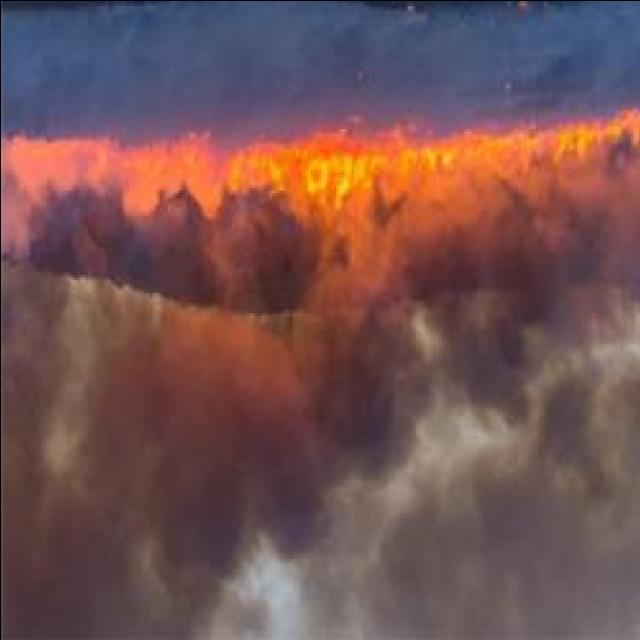fire: (518, 116, 618, 160), (304, 148, 364, 198), (408, 146, 454, 170)
smoke: (471, 358, 640, 528), (0, 518, 215, 638), (358, 484, 516, 628), (130, 438, 262, 600), (228, 392, 340, 556), (0, 284, 78, 516), (302, 324, 414, 480), (434, 294, 542, 428), (321, 237, 397, 337), (0, 141, 105, 204), (398, 180, 500, 238), (210, 223, 260, 305)
